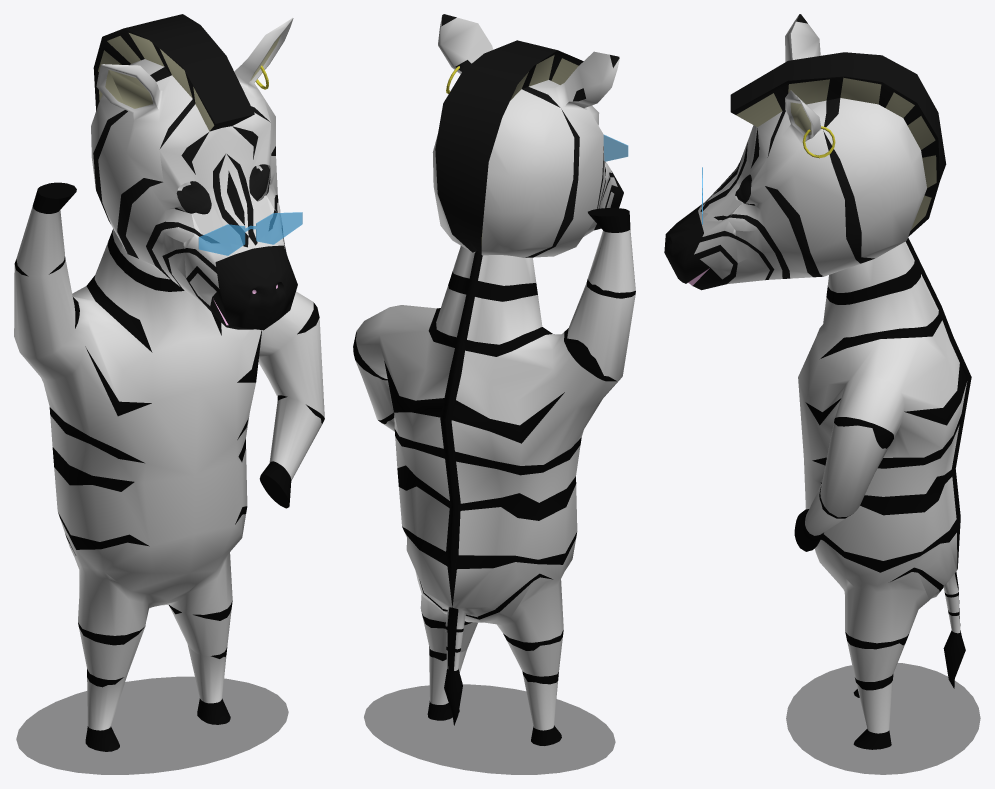
The model's file is stra.glb.
3 views of the same model, side by side, from view 1: azimuth 30°, elevation 25°; view 2: azimuth 150°, elevation 25°; view 3: azimuth 270°, elevation 25° (orthographic). The views are drawn at different scales.
Visible parts, largest first — view 1: sunglass.001, 円; view 2: sunglass.001, 円; view 3: sunglass.001, 円.
Part boxes in pixels (x1,y1,x2,y2): sunglass.001: (14, 14, 324, 751); 円: (16, 676, 288, 774); sunglass.001: (353, 14, 635, 745); 円: (364, 684, 615, 774); sunglass.001: (664, 14, 971, 749); 円: (786, 663, 980, 774).
Size of the model in its own units: 0.7457 by 1.73 by 0.7475.
